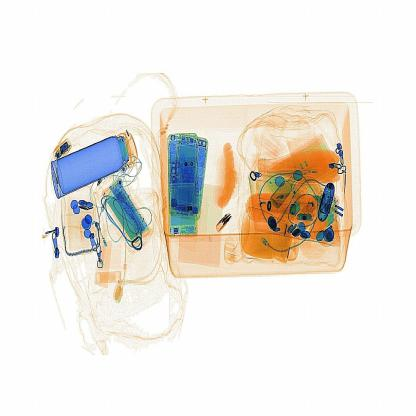wrench: (208, 202, 238, 241)
